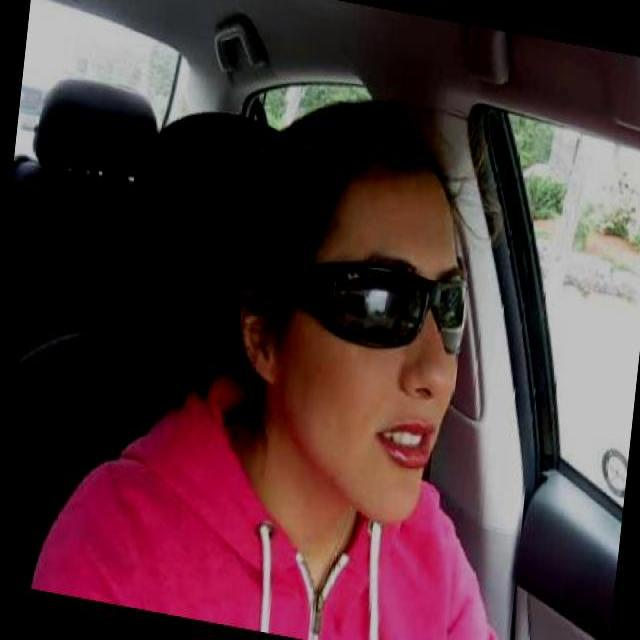no-seatbelt: (112, 454, 542, 640)
